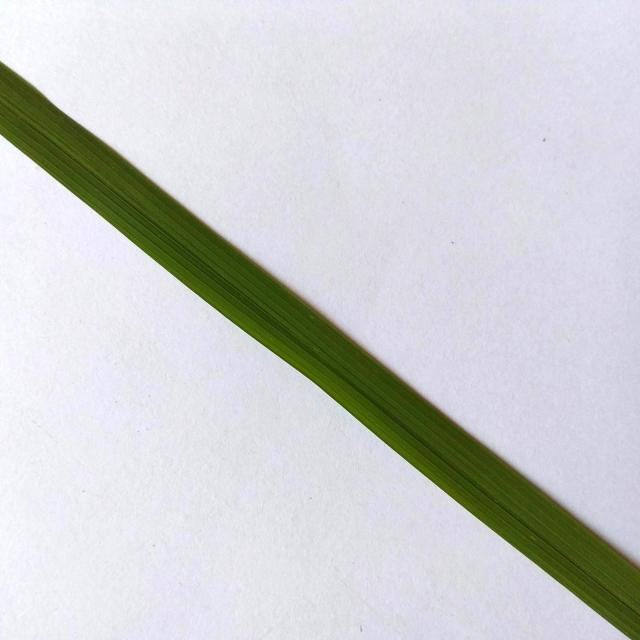healthy: (0, 61, 640, 640)
